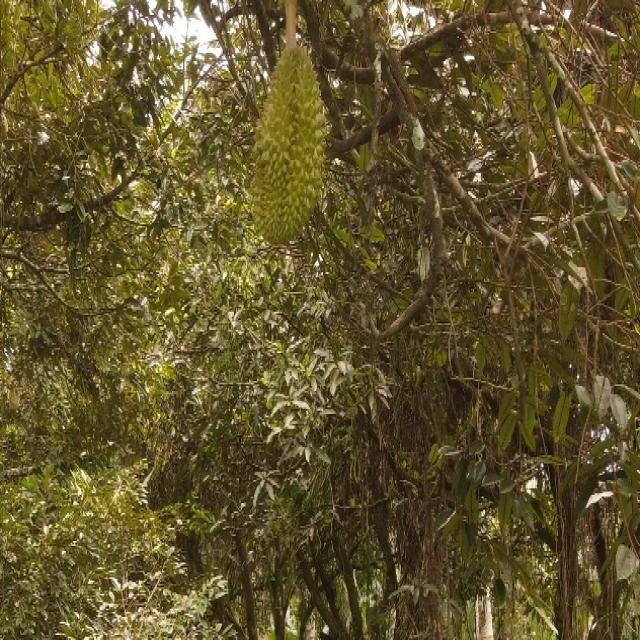immature: (247, 40, 329, 246)
